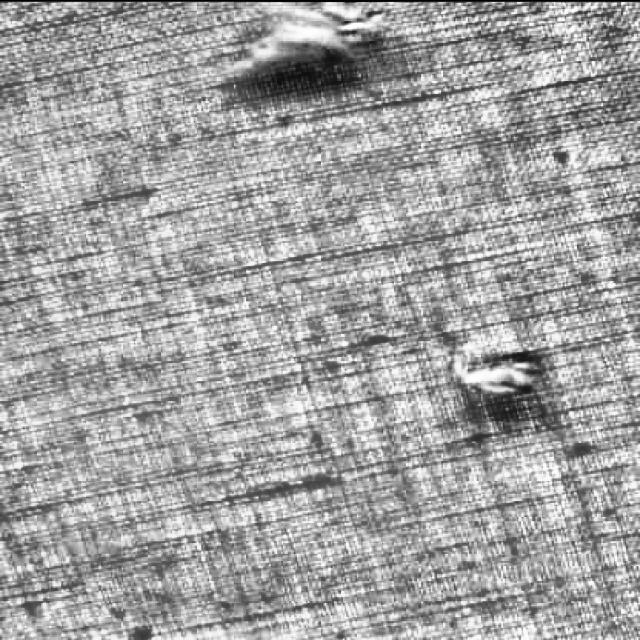objects: (198, 0, 416, 131), (438, 326, 563, 417)
